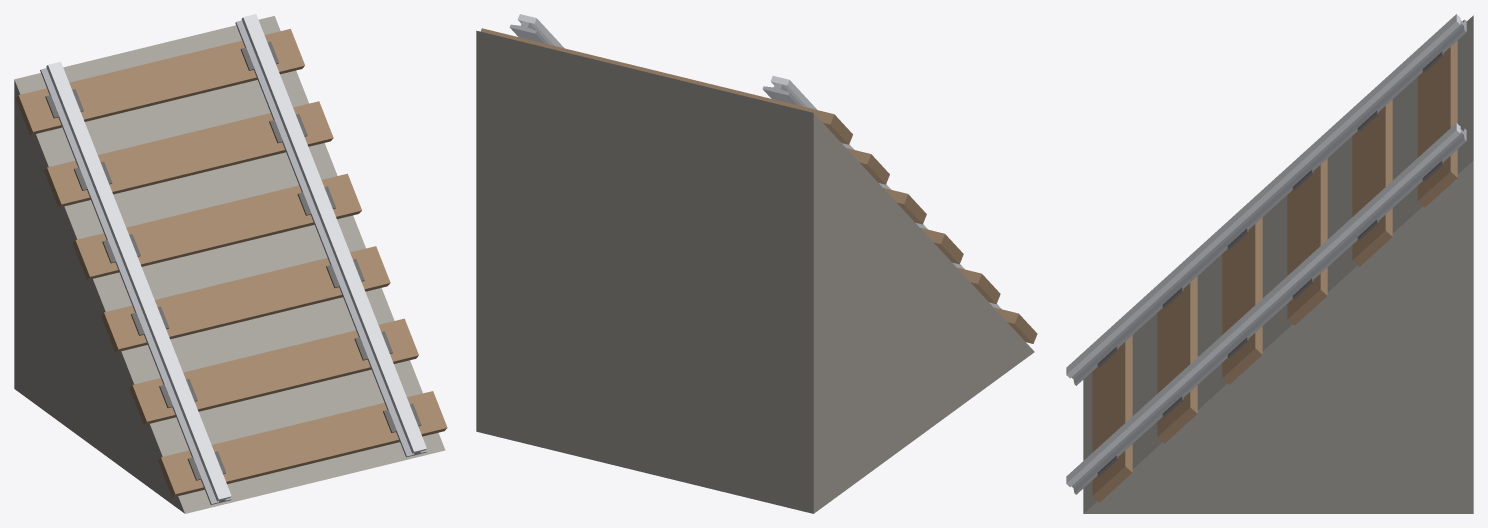
The model's file is rail_up.gltf.
3 renders of one model, left to right at view 1: azimuth 30°, elevation 25°; view 2: azimuth 150°, elevation 25°; view 3: azimuth 270°, elevation 25°, orthographic. The views are drawn at different scales.
Parts seen in each view (by area): view 1: rail_up; view 2: rail_up; view 3: rail_up.
Part boxes in pixels (x1=…): rail_up: x1=14, y1=14, x2=447, y2=513; rail_up: x1=476, y1=14, x2=1037, y2=513; rail_up: x1=1066, y1=14, x2=1473, y2=513.
Bounding box in the file's own units: 0.92 × 1.04 × 1.04.
